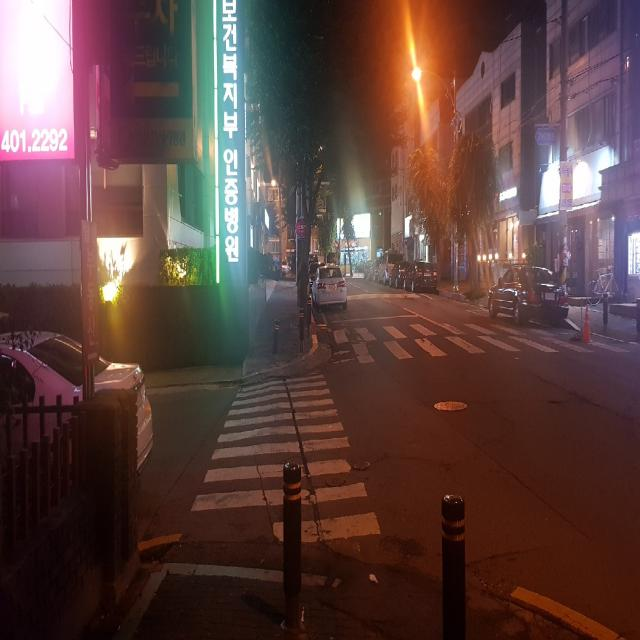횡단보도: (188, 369, 382, 546), (327, 320, 593, 356)
